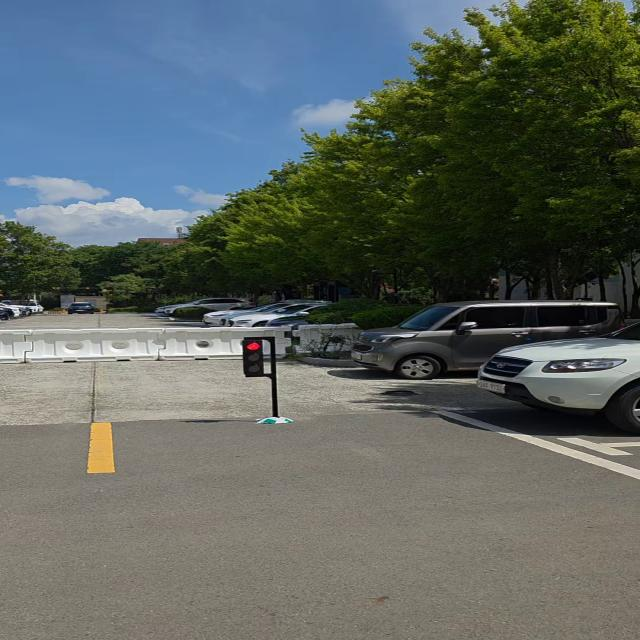red: (242, 338, 268, 375)
